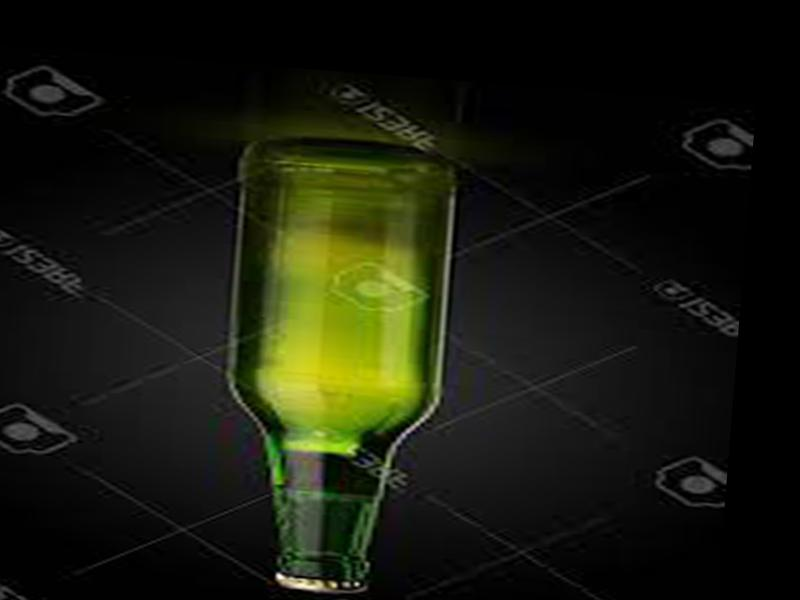Beer: (214, 136, 463, 600)
